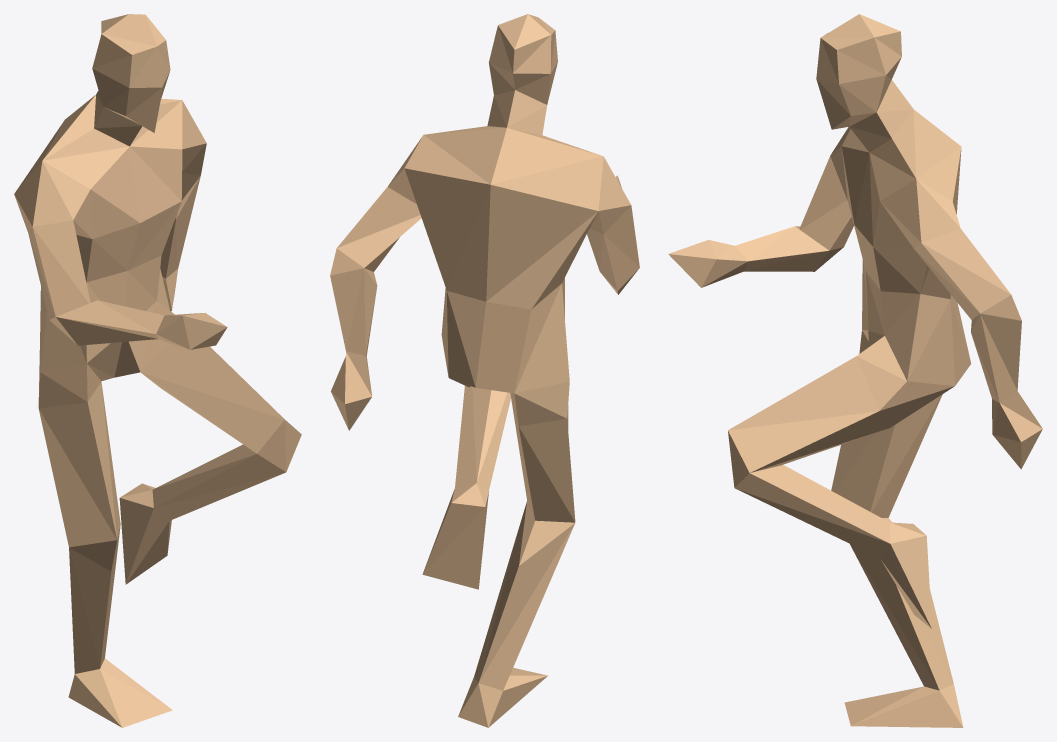
The picture shows the model from 3 angles, left to right: view 1: azimuth 30°, elevation 25°; view 2: azimuth 150°, elevation 25°; view 3: azimuth 270°, elevation 25°; orthographic projection. The views are drawn at different scales.
Size of the model in its own units: 0.7304 by 2.12 by 1.02.
1 material, 1 textured.
